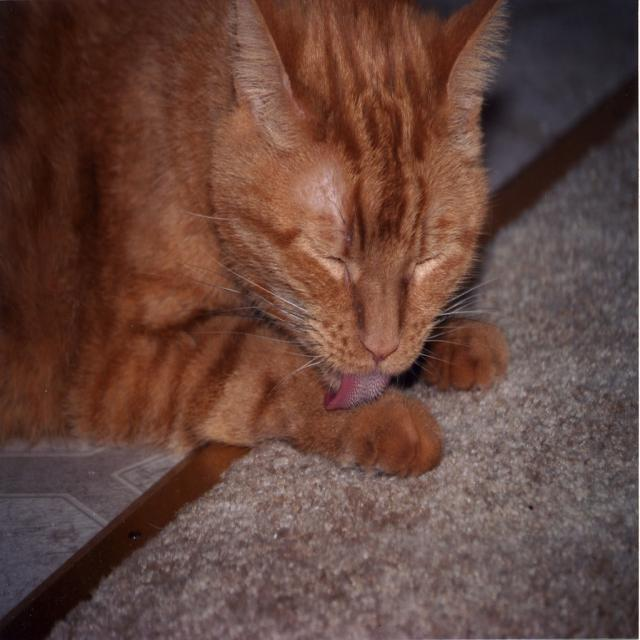Cat: (0, 0, 511, 478)
